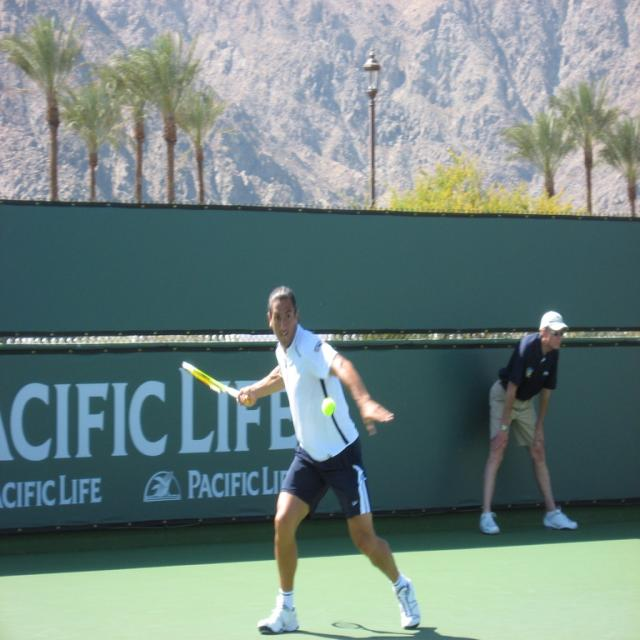Tennis ball: (322, 397, 334, 416)
